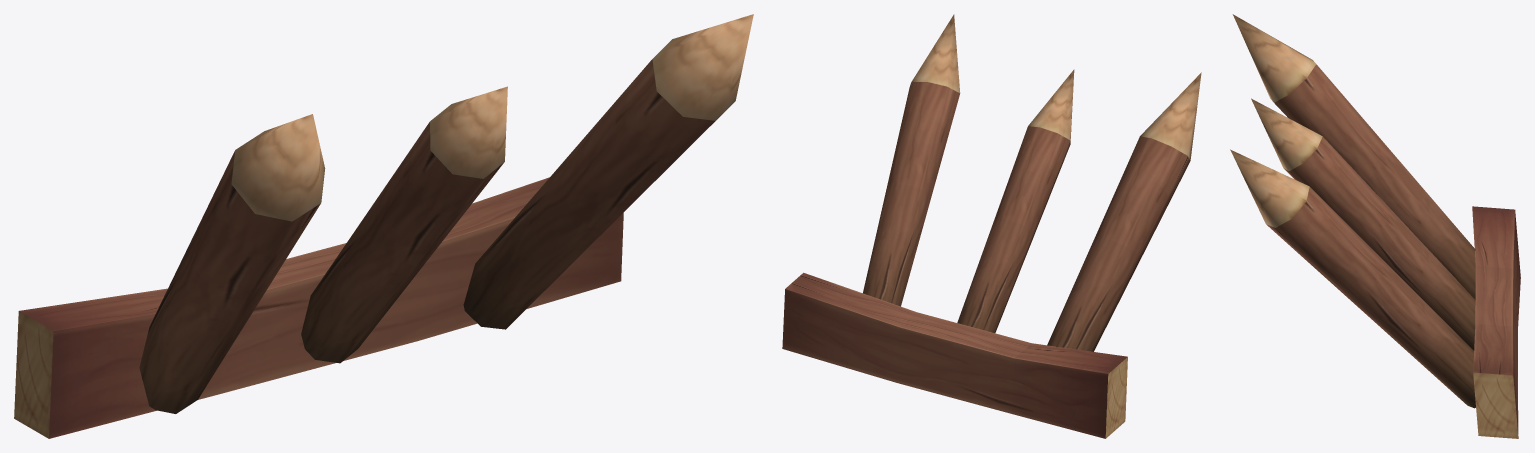
The model's file is wooden_barrier_02.fbx.
The picture shows the model from 3 angles, left to right: view 1: azimuth 30°, elevation 25°; view 2: azimuth 150°, elevation 25°; view 3: azimuth 270°, elevation 25°; orthographic projection. The views are drawn at different scales.
Parts seen in each view (by area): view 1: wooden_barrier_02:Mesh; view 2: wooden_barrier_02:Mesh; view 3: wooden_barrier_02:Mesh.
Boxes of the visible parts, box(x1,y1,x2,y2) form: wooden_barrier_02:Mesh: box(14, 14, 753, 438); wooden_barrier_02:Mesh: box(782, 14, 1201, 438); wooden_barrier_02:Mesh: box(1230, 14, 1520, 438).
Bounding box in the file's own units: 1.96 × 1.5 × 1.4.
Materials: 1 (1 with a texture image).
